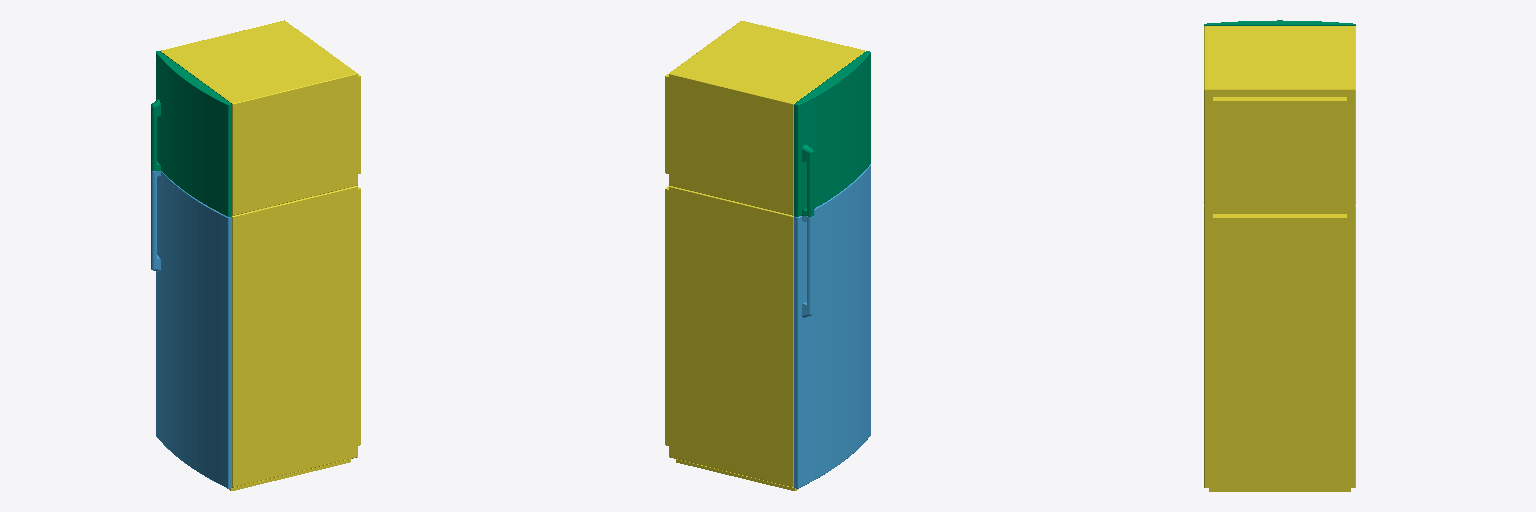
robot.urdf — partnet_704ed5d61902eeb5a1e039e67e7e40e1:
<?xml version="1.0" ?>
<robot name="partnet_704ed5d61902eeb5a1e039e67e7e40e1">
	<link name="base"/>
	<link name="link_0">
		<visual name="door_frame-10">
			<origin xyz="-0.2980152308045996 -0.8741509999999999 -0.31606849793475966"/>
			<geometry>
				<mesh filename="textured_objs/original-5.obj"/>
			</geometry>
		</visual>
		<visual name="handle-11">
			<origin xyz="-0.2980152308045996 -0.8741509999999999 -0.31606849793475966"/>
			<geometry>
				<mesh filename="textured_objs/original-8.obj"/>
			</geometry>
		</visual>
		<collision>
			<origin xyz="-0.2980152308045996 -0.8741509999999999 -0.31606849793475966"/>
			<geometry>
				<mesh filename="textured_objs/original-5.obj"/>
			</geometry>
		</collision>
		<collision>
			<origin xyz="-0.2980152308045996 -0.8741509999999999 -0.31606849793475966"/>
			<geometry>
				<mesh filename="textured_objs/original-8.obj"/>
			</geometry>
		</collision>
	</link>
	<joint name="joint_0" type="revolute">
		<origin xyz="0.2980152308045996 0.8741509999999999 0.31606849793475966"/>
		<axis xyz="0 1 0"/>
		<child link="link_0"/>
		<parent link="link_2"/>
		<limit lower="-0.0" upper="3.141592653589793"/>
	</joint>
	<link name="link_1">
		<visual name="door_frame-8">
			<origin xyz="-0.2980152308045996 -0.8741509999999999 -0.31606849793475966"/>
			<geometry>
				<mesh filename="textured_objs/original-4.obj"/>
			</geometry>
		</visual>
		<visual name="handle-9">
			<origin xyz="-0.2980152308045996 -0.8741509999999999 -0.31606849793475966"/>
			<geometry>
				<mesh filename="textured_objs/original-7.obj"/>
			</geometry>
		</visual>
		<collision>
			<origin xyz="-0.2980152308045996 -0.8741509999999999 -0.31606849793475966"/>
			<geometry>
				<mesh filename="textured_objs/original-4.obj"/>
			</geometry>
		</collision>
		<collision>
			<origin xyz="-0.2980152308045996 -0.8741509999999999 -0.31606849793475966"/>
			<geometry>
				<mesh filename="textured_objs/original-7.obj"/>
			</geometry>
		</collision>
	</link>
	<joint name="joint_1" type="revolute">
		<origin xyz="0.2980152308045996 0.8741509999999999 0.31606849793475966"/>
		<axis xyz="0 1 0"/>
		<child link="link_1"/>
		<parent link="link_2"/>
		<limit lower="-0.0" upper="3.141592653589793"/>
	</joint>
	<link name="link_2">
		<visual name="surface-4">
			<origin xyz="0 0 0"/>
			<geometry>
				<mesh filename="textured_objs/new-0.obj"/>
			</geometry>
		</visual>
		<visual name="surface-4">
			<origin xyz="0 0 0"/>
			<geometry>
				<mesh filename="textured_objs/original-1.obj"/>
			</geometry>
		</visual>
		<visual name="frame-5">
			<origin xyz="0 0 0"/>
			<geometry>
				<mesh filename="textured_objs/new-1.obj"/>
			</geometry>
		</visual>
		<visual name="frame-5">
			<origin xyz="0 0 0"/>
			<geometry>
				<mesh filename="textured_objs/original-2.obj"/>
			</geometry>
		</visual>
		<collision>
			<origin xyz="0 0 0"/>
			<geometry>
				<mesh filename="textured_objs/new-0.obj"/>
			</geometry>
		</collision>
		<collision>
			<origin xyz="0 0 0"/>
			<geometry>
				<mesh filename="textured_objs/original-1.obj"/>
			</geometry>
		</collision>
		<collision>
			<origin xyz="0 0 0"/>
			<geometry>
				<mesh filename="textured_objs/new-1.obj"/>
			</geometry>
		</collision>
		<collision>
			<origin xyz="0 0 0"/>
			<geometry>
				<mesh filename="textured_objs/original-2.obj"/>
			</geometry>
		</collision>
	</link>
	<joint name="joint_2" type="fixed">
		<origin rpy="1.570796326794897 0 -1.570796326794897" xyz="0 0 0"/>
		<child link="link_2"/>
		<parent link="base"/>
	</joint>
</robot>

--- What the picture shows (computed from the rendered views, not written in the file) ---
The picture shows the robot from 3 angles, left to right: view 1: azimuth 30°, elevation 25°; view 2: azimuth 150°, elevation 25°; view 3: azimuth 270°, elevation 25°; orthographic projection.
Robot: partnet_704ed5d61902eeb5a1e039e67e7e40e1 — 4 links, 3 joints (2 revolute, 1 fixed); root link base; default pose: all joints at 0.
Links seen in each view (by area): view 1: link_2, link_0, link_1; view 2: link_2, link_0, link_1; view 3: link_2, link_1.
Boxes of the visible links, box(x1,y1,x2,y2) form: link_2: box(161, 20, 360, 490); link_0: box(151, 171, 231, 488); link_1: box(151, 51, 231, 216); link_2: box(665, 21, 865, 490); link_0: box(794, 164, 870, 488); link_1: box(794, 51, 870, 216); link_2: box(1204, 26, 1355, 491); link_1: box(1204, 20, 1355, 25).
Bounding box of the posed robot: 0.7164 × 0.6173 × 1.82 m (x, y, z).
Meshes: 8 distinct files referenced, 8 mesh visuals loaded (8 OBJ).
